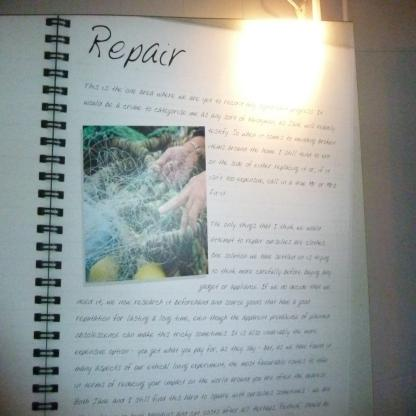book: (0, 14, 369, 415)
